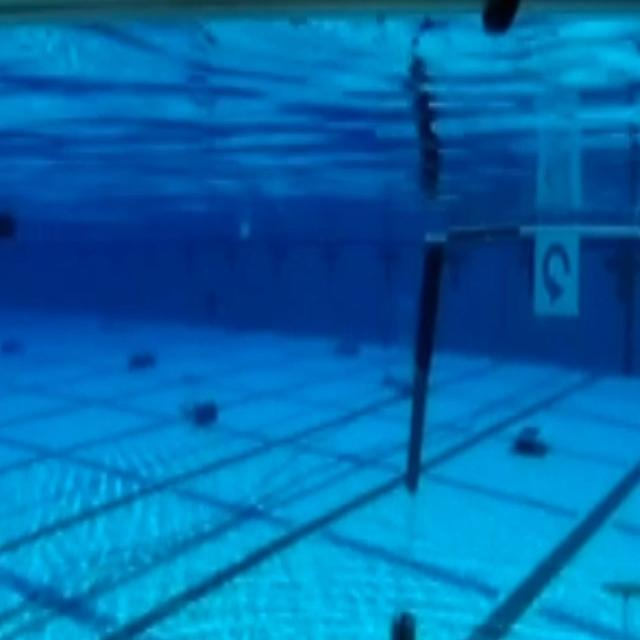Gate: (398, 216, 640, 538)
